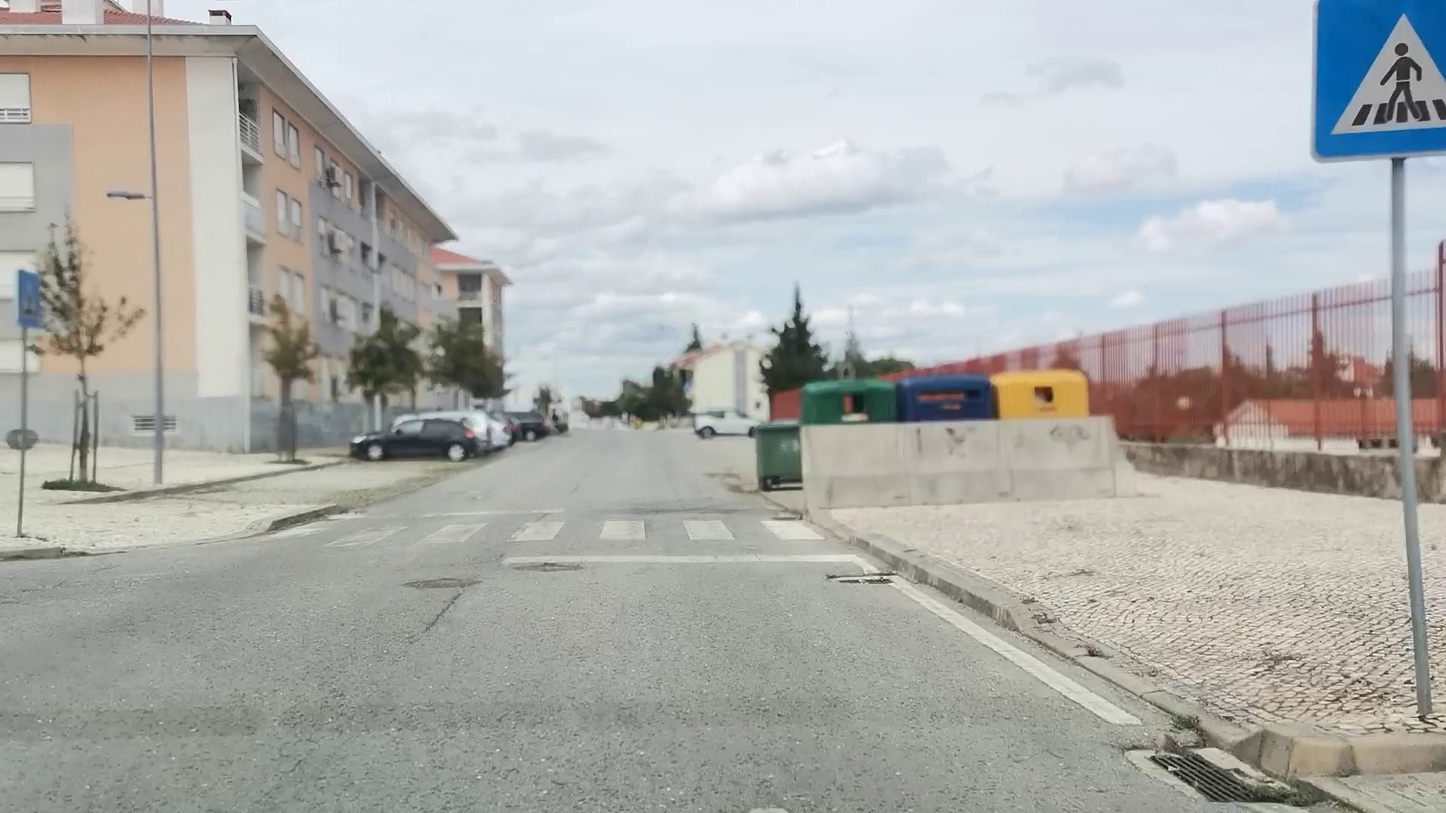Stairs: (220, 519, 828, 547)
